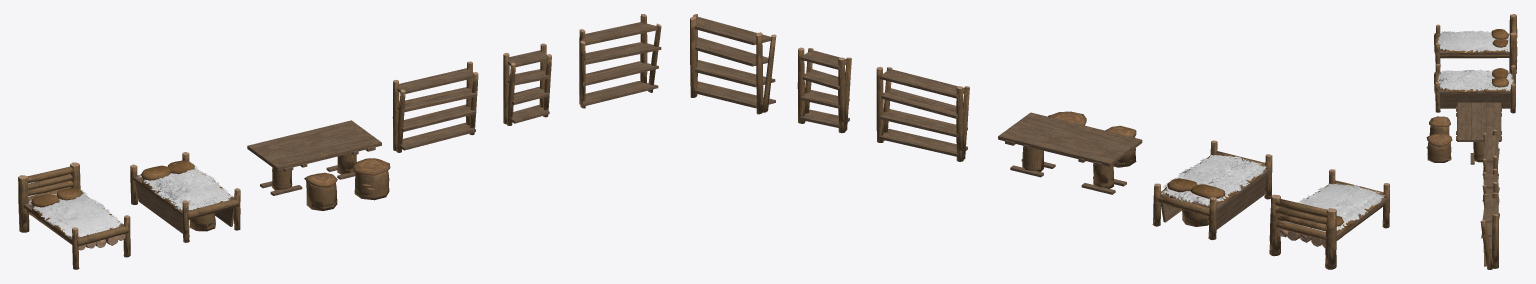
The model's file is Furniture_Set_A1.fbx.
The picture shows the model from 3 angles, left to right: view 1: azimuth 30°, elevation 25°; view 2: azimuth 150°, elevation 25°; view 3: azimuth 270°, elevation 25°; orthographic projection. The views are drawn at different scales.
Parts seen in each view (by area): view 1: Fae_Bed_A2, Fae_Bed_A1, Table_A1, Shelf_A3, Shelf_A2, Fae_Bed_A1.001, Shelf_A1, Fae_Bed_A1.002, Fae_Bed_A2.001, Shelf_A3.001, Shelf_A2.001, Shelf_A2.002 (+10 smaller); view 2: Table_A1, Fae_Bed_A2, Shelf_A2, Shelf_A3, Fae_Bed_A1, Fae_Bed_A1.001, Shelf_A1, Fae_Bed_A2.001, Shelf_A2.001, Shelf_A3.001, Fae_Bed_A2.002, Fae_Bed_A1.002 (+5 smaller); view 3: Fae_Bed_A2, Fae_Bed_A1, Table_A1, Fae_Bed_A1.001, Fae_Bed_A2.001, Fae_Bed_A1.002, Shelf_A3, Fae_Bed_A2.002, Shelf_A2, Shelf_A3.001, Log_Stool_A2, Shelf_A1 (+8 smaller).
Boxes of the visible parts, x1=… form: Fae_Bed_A2: x1=130, y1=152, x2=240, y2=242; Fae_Bed_A1: x1=18, y1=162, x2=130, y2=269; Table_A1: x1=247, y1=120, x2=381, y2=195; Shelf_A3: x1=579, y1=14, x2=661, y2=108; Shelf_A2: x1=393, y1=61, x2=478, y2=152; Fae_Bed_A1.001: x1=18, y1=165, x2=129, y2=269; Shelf_A1: x1=503, y1=43, x2=551, y2=125; Fae_Bed_A1.002: x1=18, y1=162, x2=130, y2=269; Fae_Bed_A2.001: x1=130, y1=154, x2=240, y2=242; Shelf_A3.001: x1=579, y1=16, x2=660, y2=107; Shelf_A2.001: x1=392, y1=63, x2=478, y2=152; Shelf_A2.002: x1=393, y1=62, x2=478, y2=152; Table_A1: x1=998, y1=112, x2=1142, y2=194; Fae_Bed_A2: x1=1153, y1=140, x2=1271, y2=239; Shelf_A2: x1=876, y1=67, x2=969, y2=161; Shelf_A3: x1=690, y1=14, x2=775, y2=114; Fae_Bed_A1: x1=1269, y1=169, x2=1389, y2=269; Fae_Bed_A1.001: x1=1270, y1=171, x2=1389, y2=266; Shelf_A1: x1=798, y1=47, x2=851, y2=133; Fae_Bed_A2.001: x1=1153, y1=141, x2=1271, y2=237; Shelf_A2.001: x1=876, y1=68, x2=968, y2=158; Shelf_A3.001: x1=690, y1=15, x2=773, y2=114; Fae_Bed_A2.002: x1=1152, y1=140, x2=1272, y2=240; Fae_Bed_A1.002: x1=1269, y1=171, x2=1388, y2=269; Fae_Bed_A2: x1=1434, y1=63, x2=1515, y2=112; Fae_Bed_A1: x1=1434, y1=14, x2=1517, y2=73; Table_A1: x1=1456, y1=102, x2=1501, y2=164; Fae_Bed_A1.001: x1=1434, y1=16, x2=1517, y2=72; Fae_Bed_A2.001: x1=1434, y1=65, x2=1515, y2=113; Fae_Bed_A1.002: x1=1434, y1=14, x2=1516, y2=72; Shelf_A3: x1=1481, y1=192, x2=1499, y2=269; Fae_Bed_A2.002: x1=1434, y1=64, x2=1515, y2=113; Shelf_A2: x1=1482, y1=129, x2=1499, y2=198; Shelf_A3.001: x1=1481, y1=193, x2=1499, y2=269; Log_Stool_A2: x1=1426, y1=134, x2=1452, y2=162; Shelf_A1: x1=1482, y1=168, x2=1499, y2=200.
Bounding box in the file's own units: 1713 × 199 × 309.
